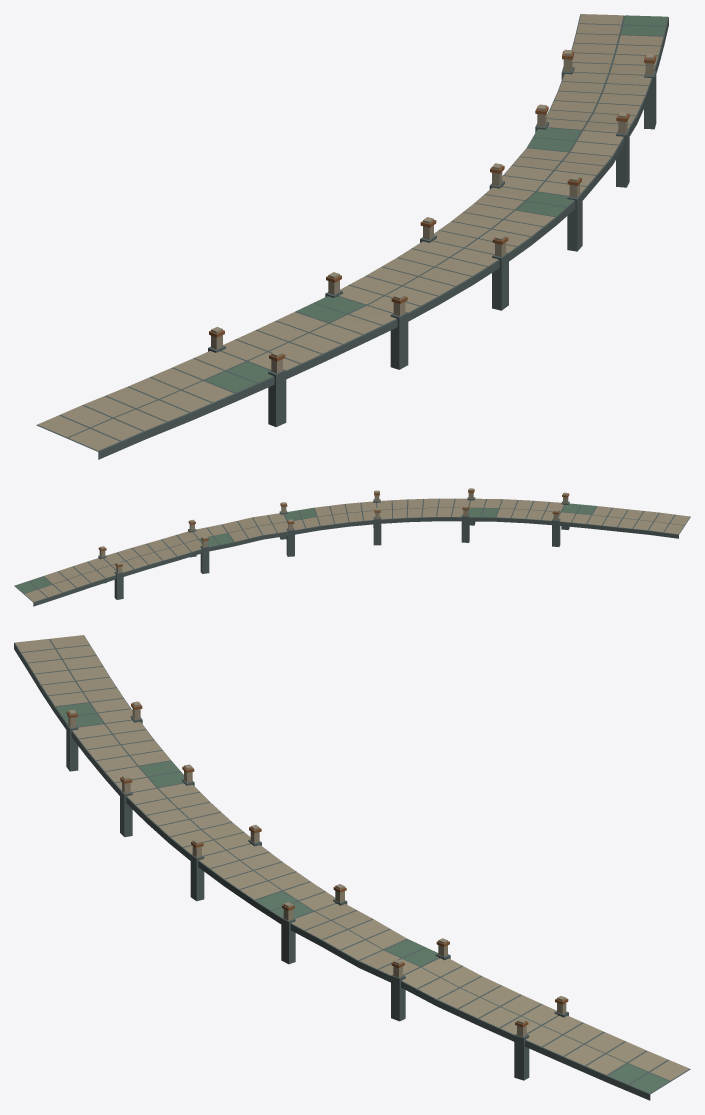
Rendered from 2_pilgrims_cross_0.glb.
3 renders of one model, top to bottom at view 1: azimuth 30°, elevation 25°; view 2: azimuth 150°, elevation 25°; view 3: azimuth 270°, elevation 25°, orthographic. The views are drawn at different scales.
Parts seen in each view (by area): view 1: Detail_9_12, Detail_10_11, Detail_10_12, Deck_9_12-col, Deck_10_11-col, Deck_10_12-col; view 2: Detail_9_12, Detail_10_11, Detail_10_12, Deck_9_12-col, Deck_10_11-col, Deck_10_12-col; view 3: Detail_9_12, Detail_10_11, Detail_10_12, Deck_9_12-col, Deck_10_11-col, Deck_10_12-col.
Part boxes in pixels (x1,y1,x2,y2): Detail_9_12: (37,217,502,459); Detail_10_11: (527,14,668,187); Detail_10_12: (433,141,618,310); Deck_9_12-col: (36,266,472,451); Deck_10_11-col: (526,14,668,156); Deck_10_12-col: (397,149,612,277); Detail_9_12: (373,488,689,546); Detail_10_11: (15,519,262,606); Detail_10_12: (207,490,391,556); Deck_9_12-col: (407,498,690,534); Deck_10_11-col: (14,525,234,602); Deck_10_12-col: (222,499,407,542); Detail_9_12: (14,635,261,849); Detail_10_11: (358,938,689,1100); Detail_10_12: (169,838,406,968); Deck_9_12-col: (14,635,232,837); Deck_10_11-col: (359,942,690,1094); Deck_10_12-col: (170,823,407,961).
Bounding box in the file's own units: 35.38 × 4.6 × 26.
